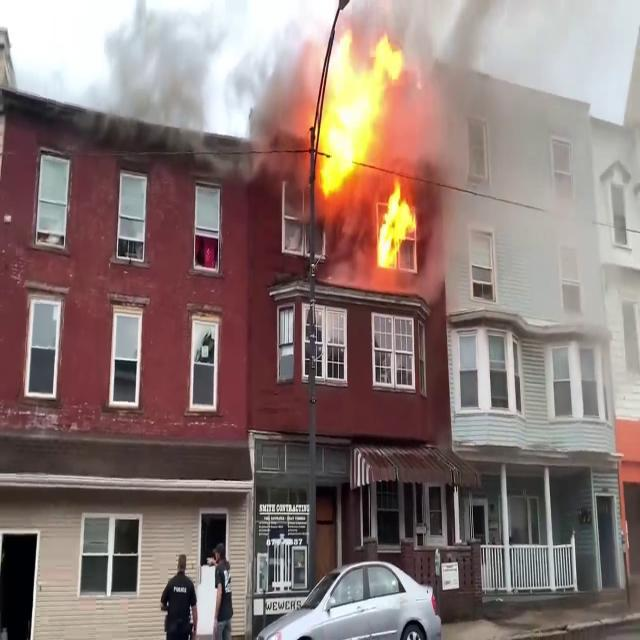Fire: (306, 17, 415, 201), (369, 176, 421, 280)
Smoke: (425, 0, 600, 291), (89, 0, 314, 153)
